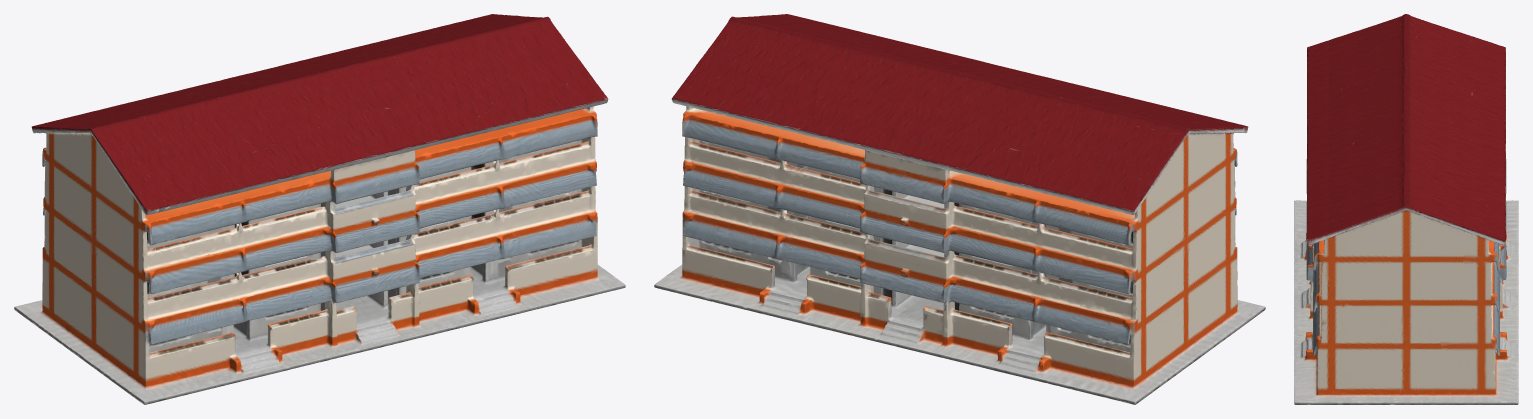
The model's file is bid_2.glb.
3 renders of one model, left to right at view 1: azimuth 30°, elevation 25°; view 2: azimuth 150°, elevation 25°; view 3: azimuth 270°, elevation 25°, orthographic. The views are drawn at different scales.
Size of the model in its own units: 1.9 by 0.8532 by 0.8927.
Materials: 1 (1 with a texture image).
